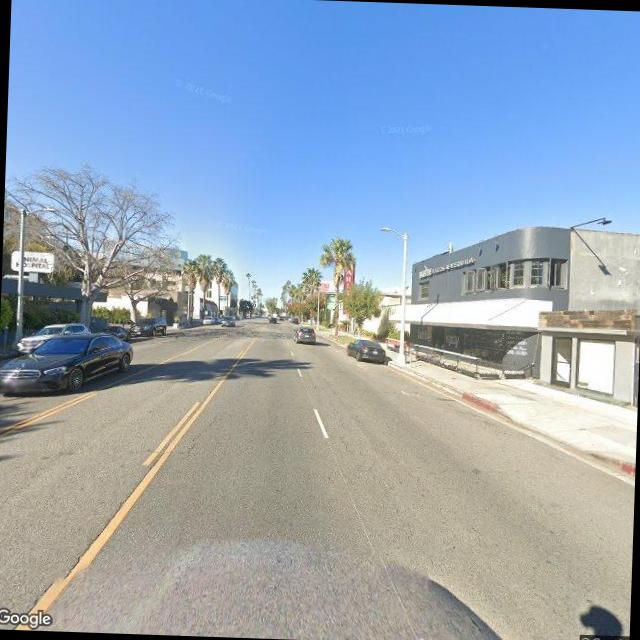pothole: (7, 447, 162, 632), (181, 410, 220, 460)
